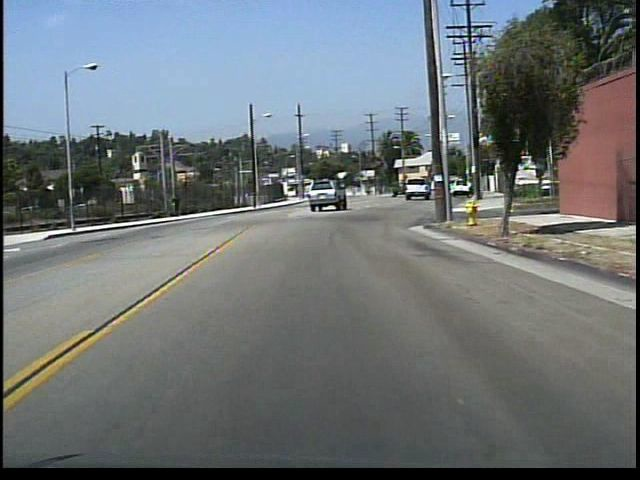person: (172, 189, 187, 218)
